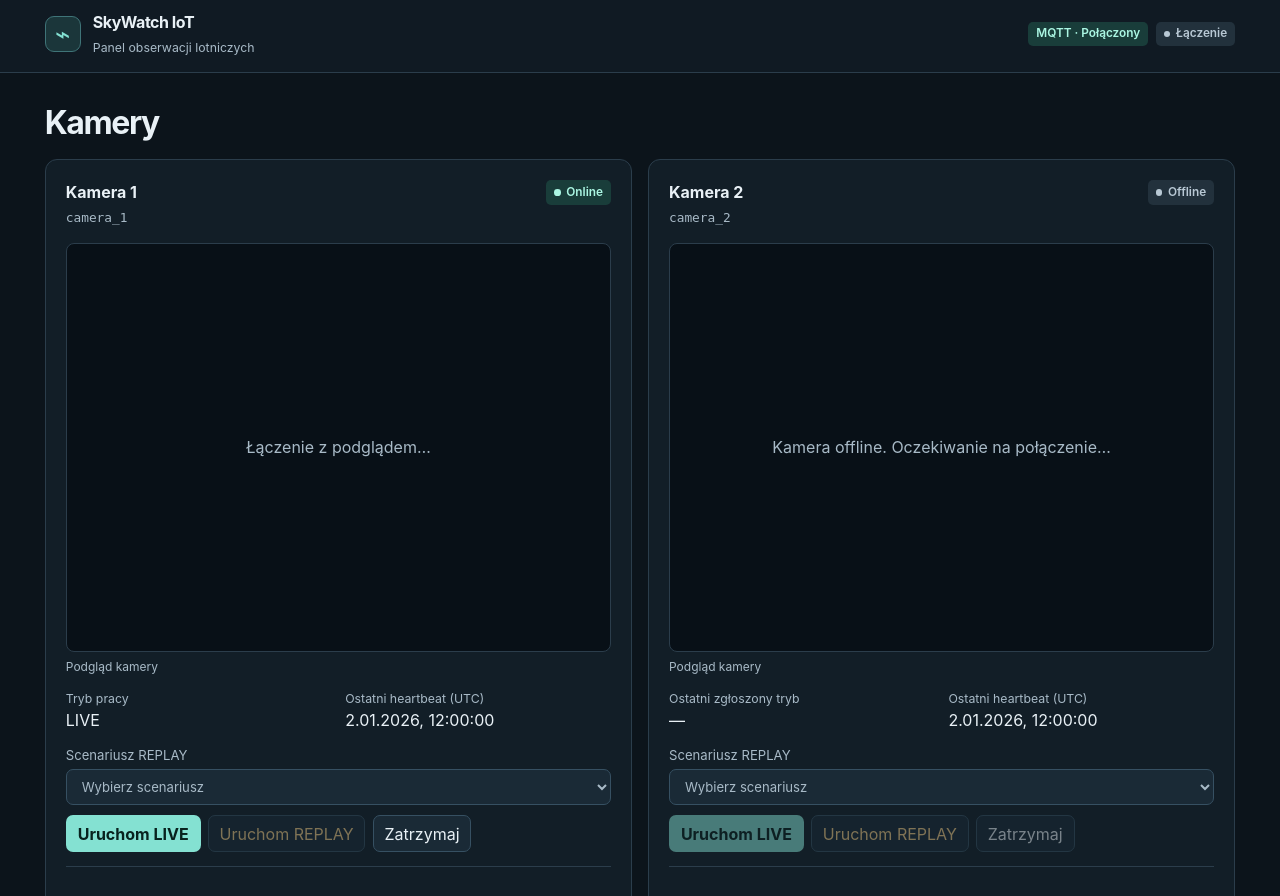
dashboard › posts a replay command and refreshes its outcome after a socket event
Select "fixture · syntetyczny" in the dropdown labelled "Scenariusz REPLAY" below "Tryb pracy" at [338, 787], box [66,769,611,805]
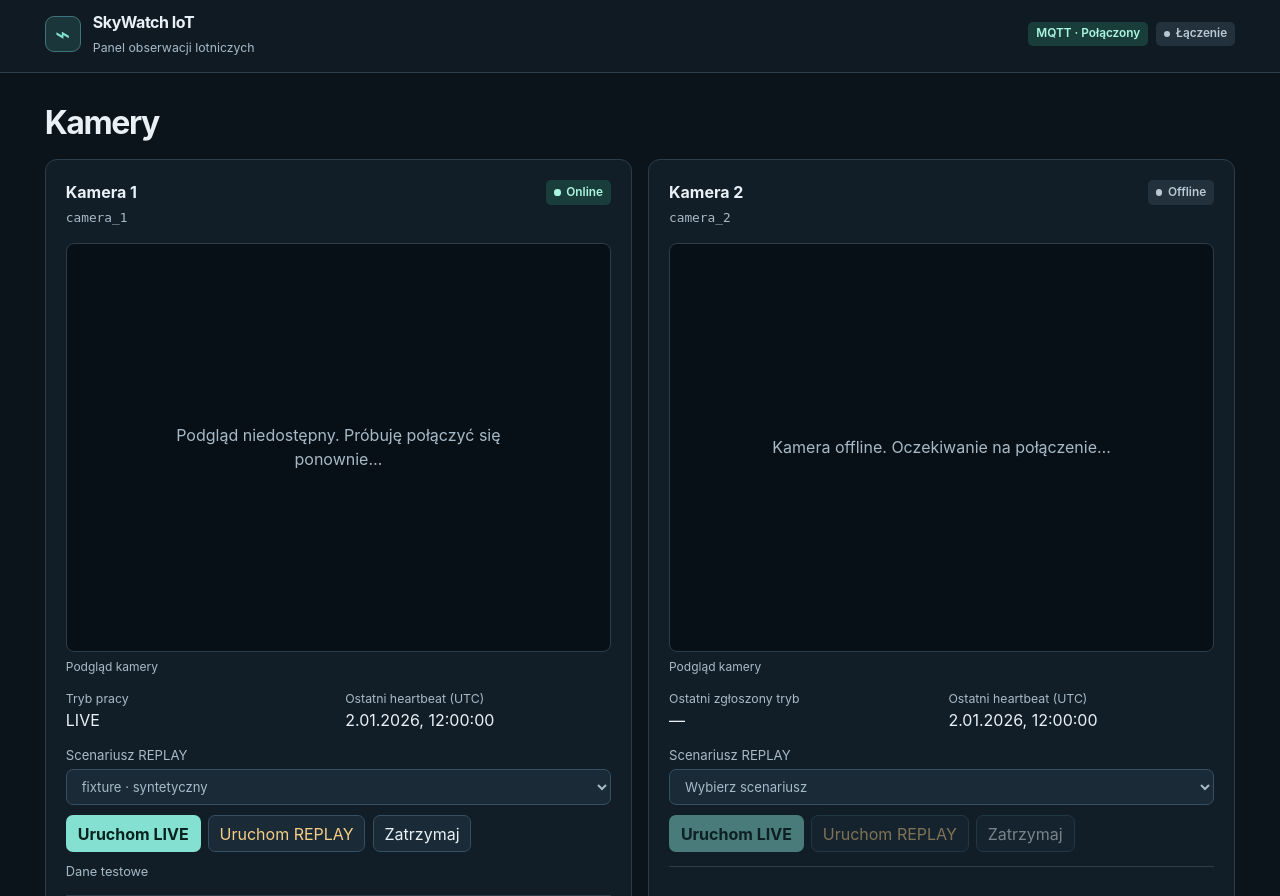
Click the button "Uruchom REPLAY" below "Tryb pracy" at [287, 834], box [208,815,366,852]
(page scrolled)
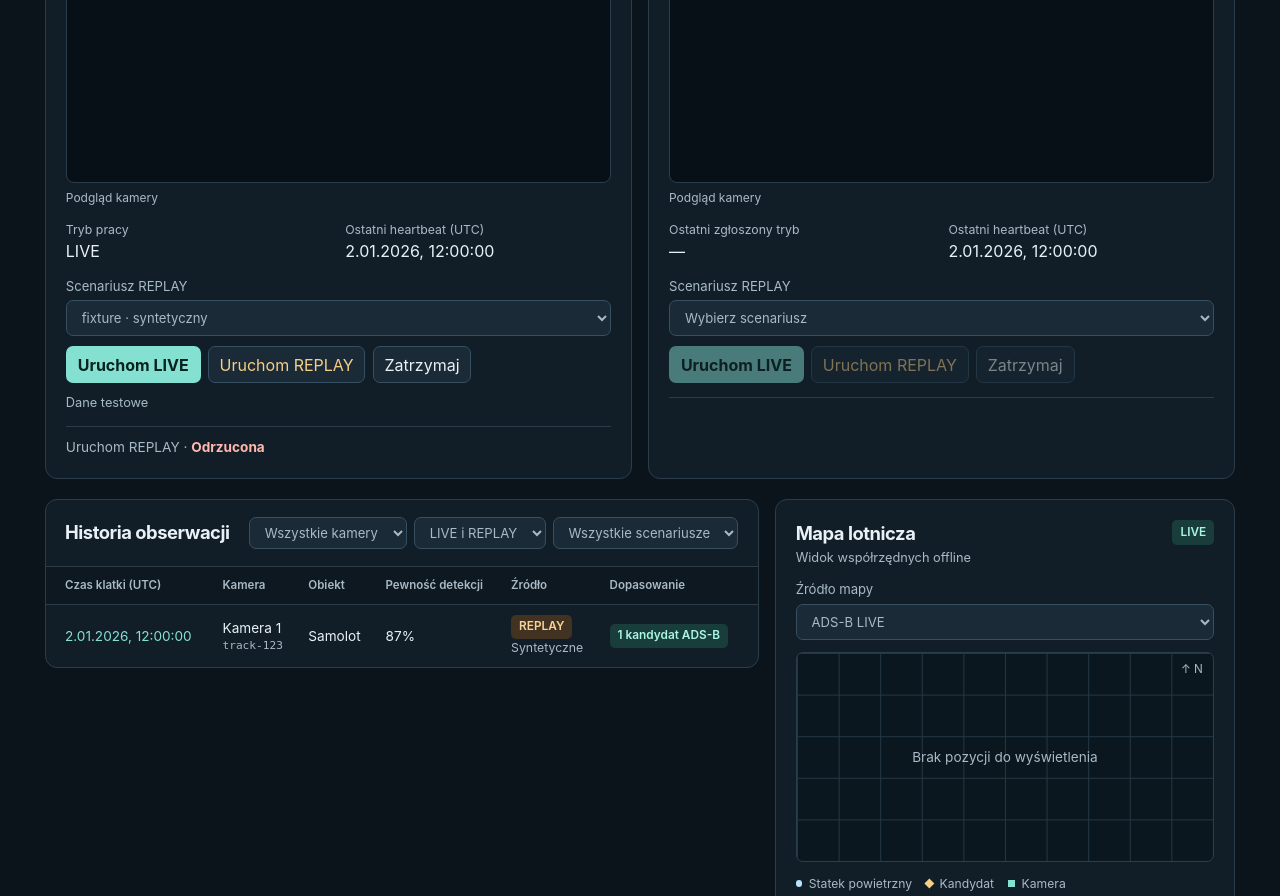
Expected: the text "Odrzucona" is shown, [191,439,265,455]
